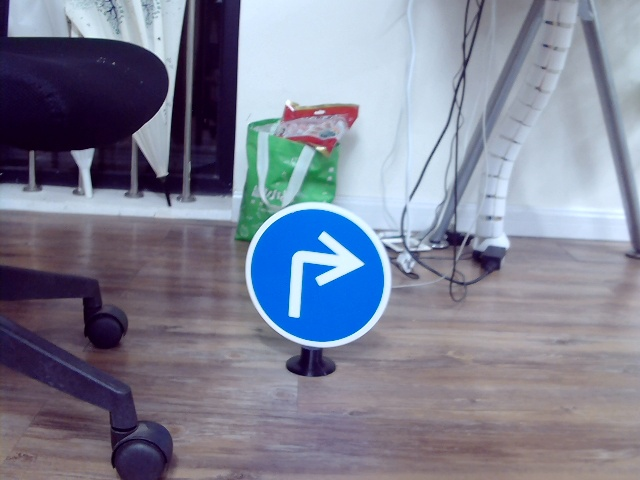turn_right: (274, 229, 364, 320)
